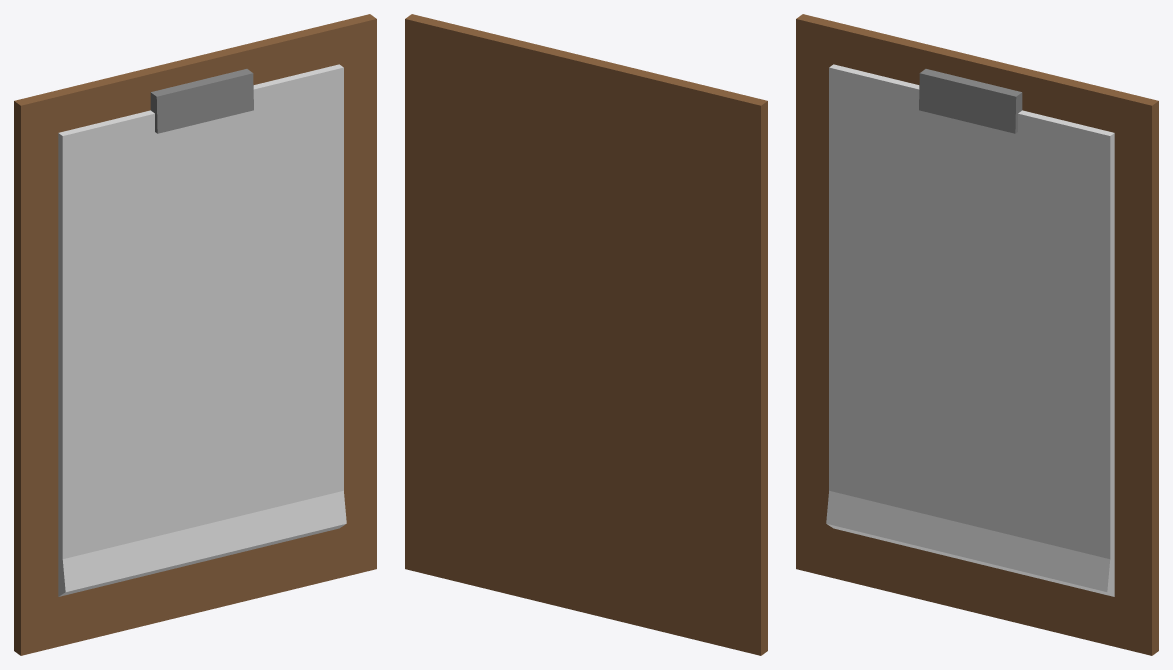
Rendered from Notepad.obj.
3 renders of one model, left to right at view 1: azimuth 30°, elevation 25°; view 2: azimuth 150°, elevation 25°; view 3: azimuth 330°, elevation 25°, orthographic.
Parts seen in each view (by area): view 1: Notepad.007; view 2: Notepad.007; view 3: Notepad.007.
Boxes of the visible parts, box(x1,y1,x2,y2) form: Notepad.007: box(14, 14, 376, 655); Notepad.007: box(405, 14, 767, 655); Notepad.007: box(796, 14, 1158, 655).
Bounding box in the file's own units: 0.2098 × 0.3098 × 0.0144.
